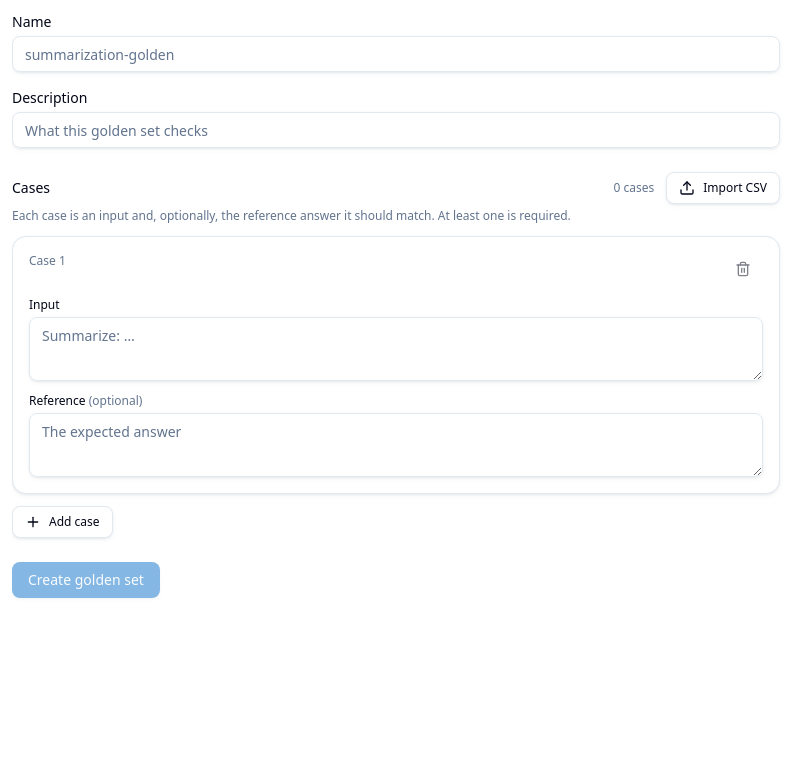
Scenario: DatasetEditorForm › starts with one case row and can add more
The width and height of the screenshot is (797, 777).
Expected: the text "Case 1" is shown, [29,253,66,269]
What coordinates should you click on to do the following:
click the button "Add case"
I would click on:
 (62, 522)
Its box is [12,506,113,538].
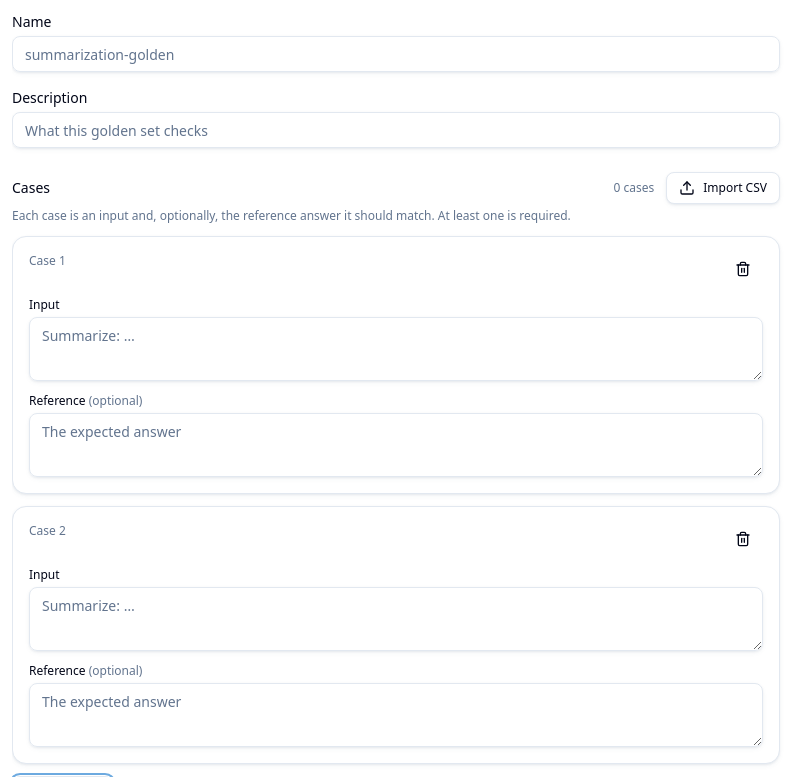
Result: the text "Case 2" is shown at [29,523,66,539]
